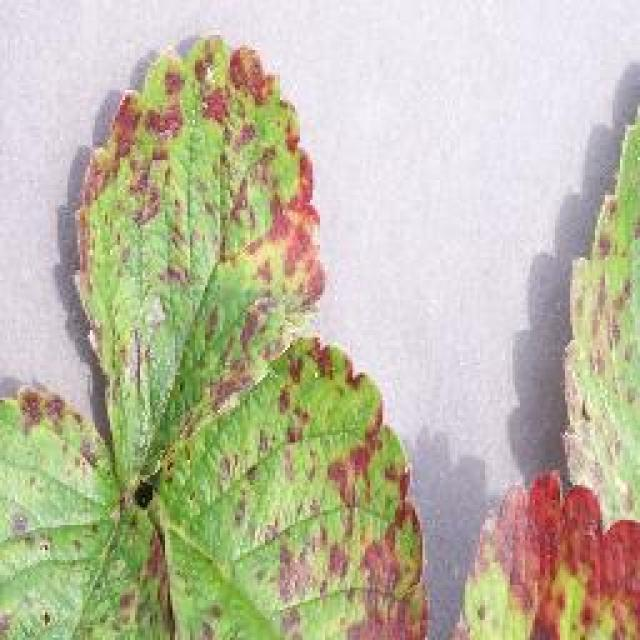Strawberry leaf scorch: (93, 60, 407, 640)
